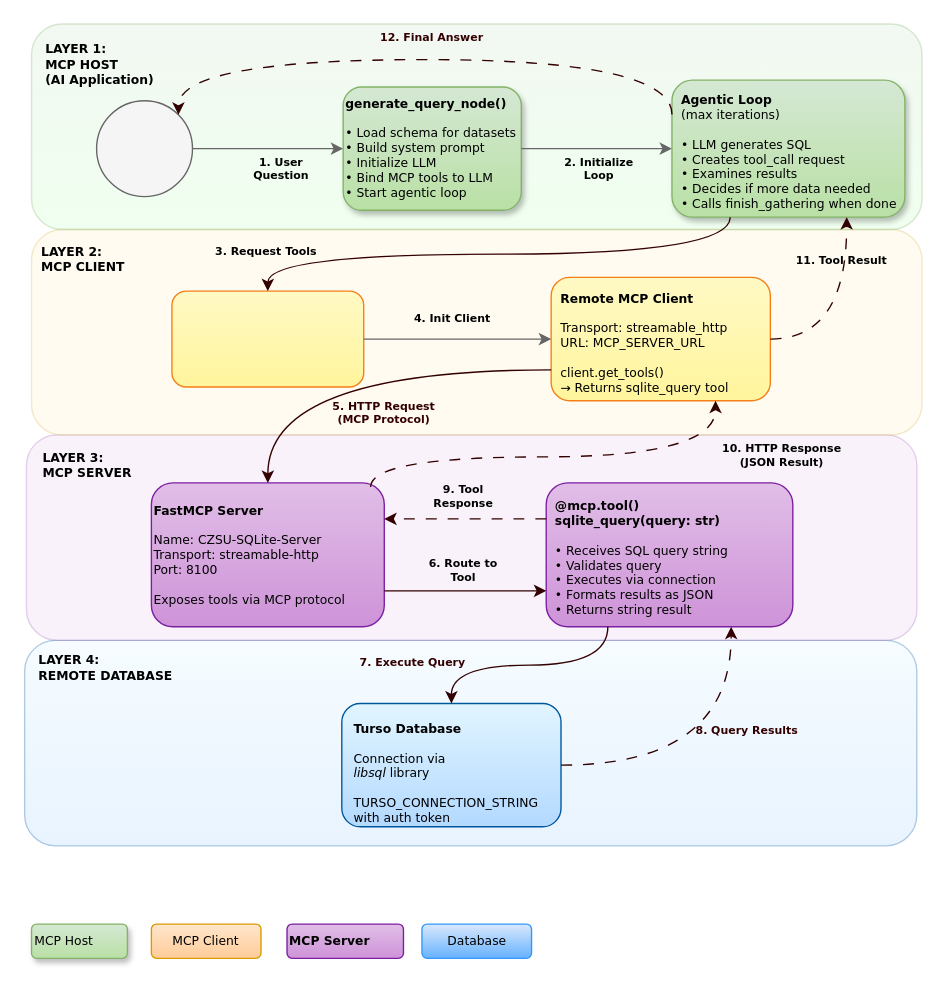
This 945x992 diagram has some shape labels left out. Here are the shapes that lost their labels. From the top down, the centre of each, then its label:
At (x=143, y=148): "User Prompt".
At (x=267, y=338): "get_sqlite_tools() Initialize MCP Client MultiServerMCPClient".
